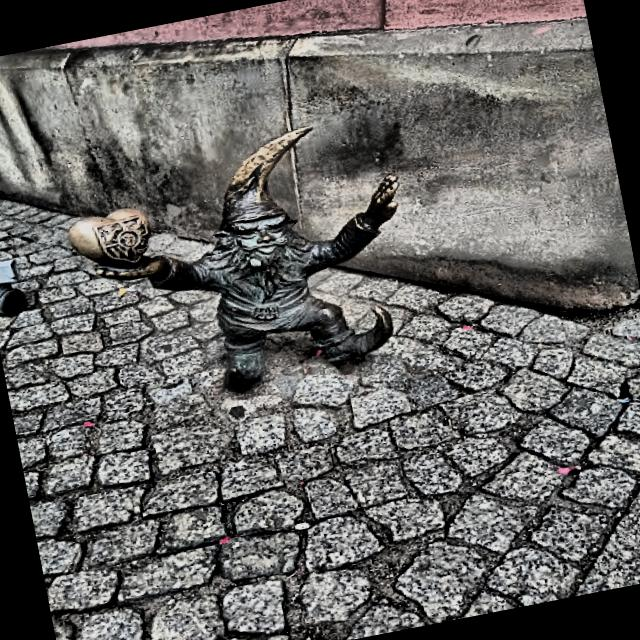WrocLovek: (67, 127, 400, 395)
